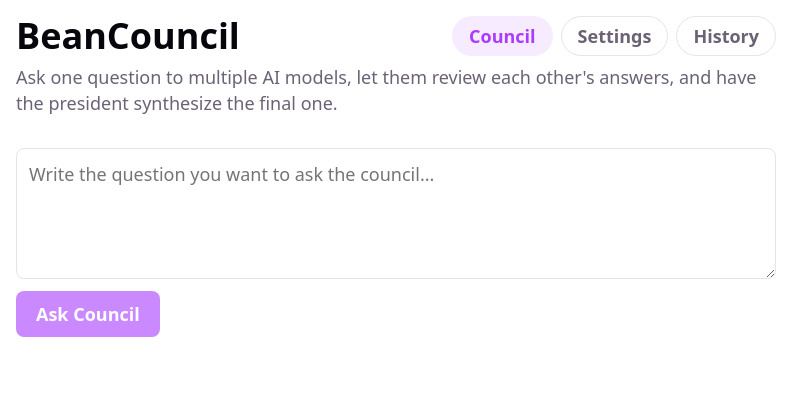
Test: App › shows error-text on askCouncil failure, no turn is added
The image size is (793, 416).
Check: the text "Ask one question to multiple AI models" is shown, box x1=16 y1=65 x2=756 y2=115
Type "question" into the text box with placeholder "Write the question you want to ask the council..." at (396, 214), box x1=16 y1=148 x2=776 y2=279
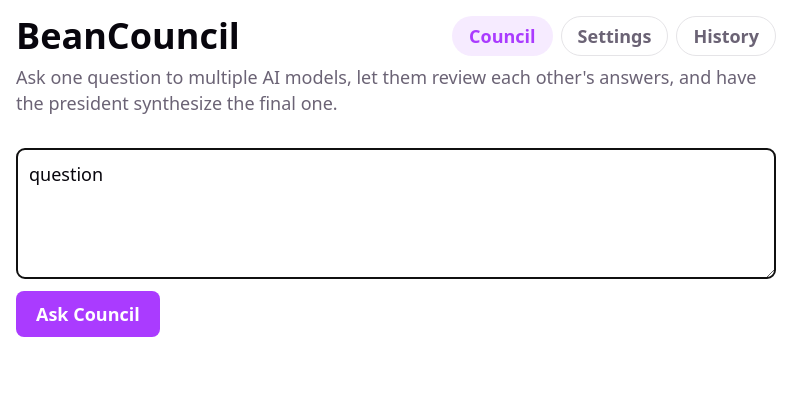
Click the button "Ask Council" at (88, 314), box x1=16 y1=291 x2=160 y2=337
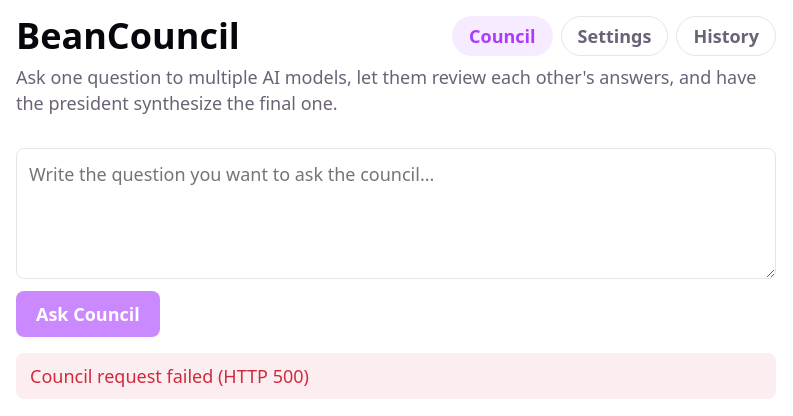
Check: the text "Council request failed (HTTP 500)" is shown, box x1=16 y1=353 x2=776 y2=399
